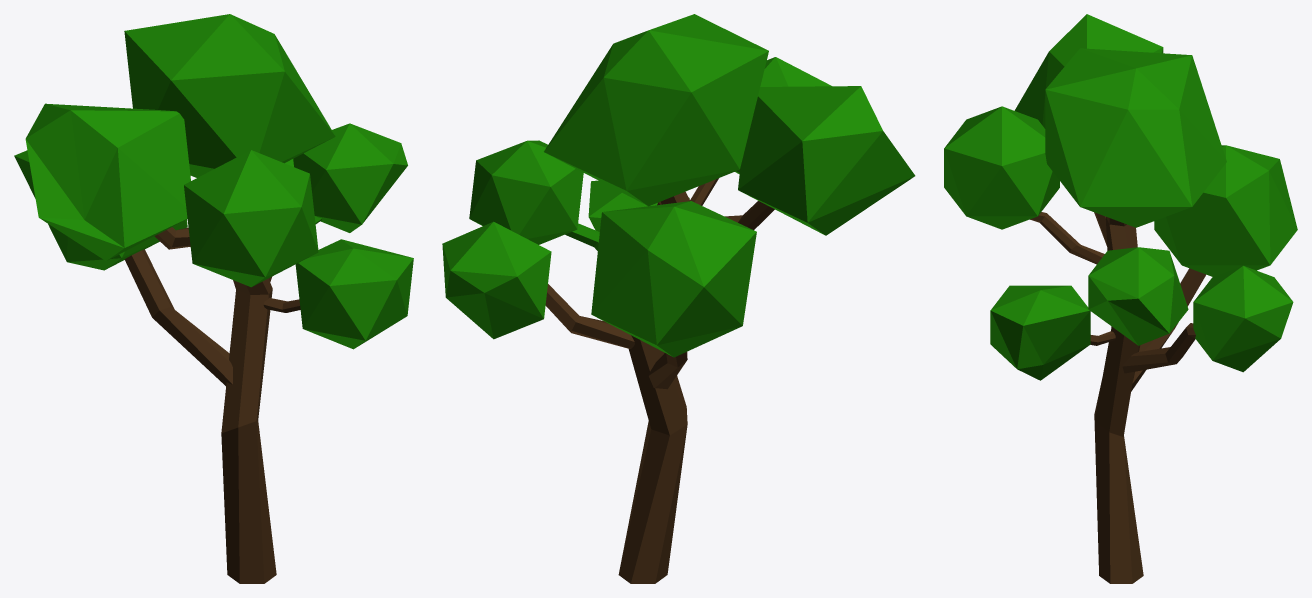
File: TreeUV.fbx
3 renders of one model, left to right at view 1: azimuth 30°, elevation 25°; view 2: azimuth 150°, elevation 25°; view 3: azimuth 270°, elevation 25°, orthographic. The views are drawn at different scales.
Parts seen in each view (by area): view 1: Icosphere; view 2: Icosphere; view 3: Icosphere.
Part boxes in pixels (left/top/right/bottom): Icosphere: left=14, top=14, right=413, bottom=583; Icosphere: left=442, top=14, right=915, bottom=583; Icosphere: left=944, top=14, right=1297, bottom=583.
Bounding box in the file's own units: 355 × 470 × 300.
